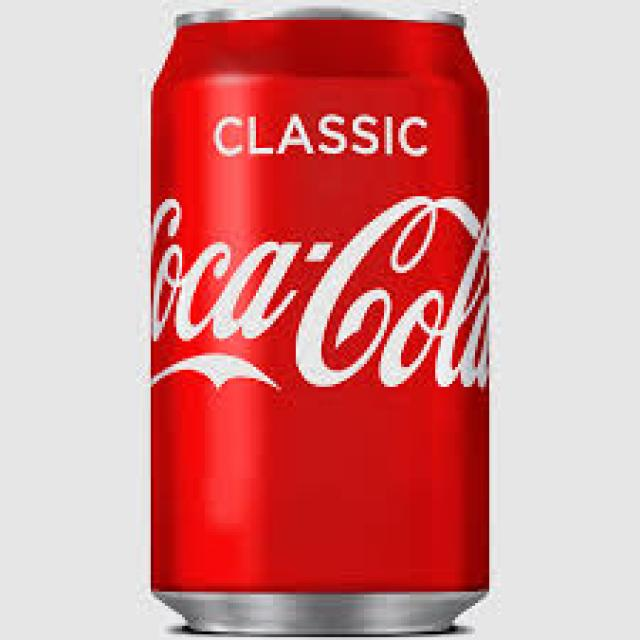aluminum_can: (145, 0, 492, 636)
